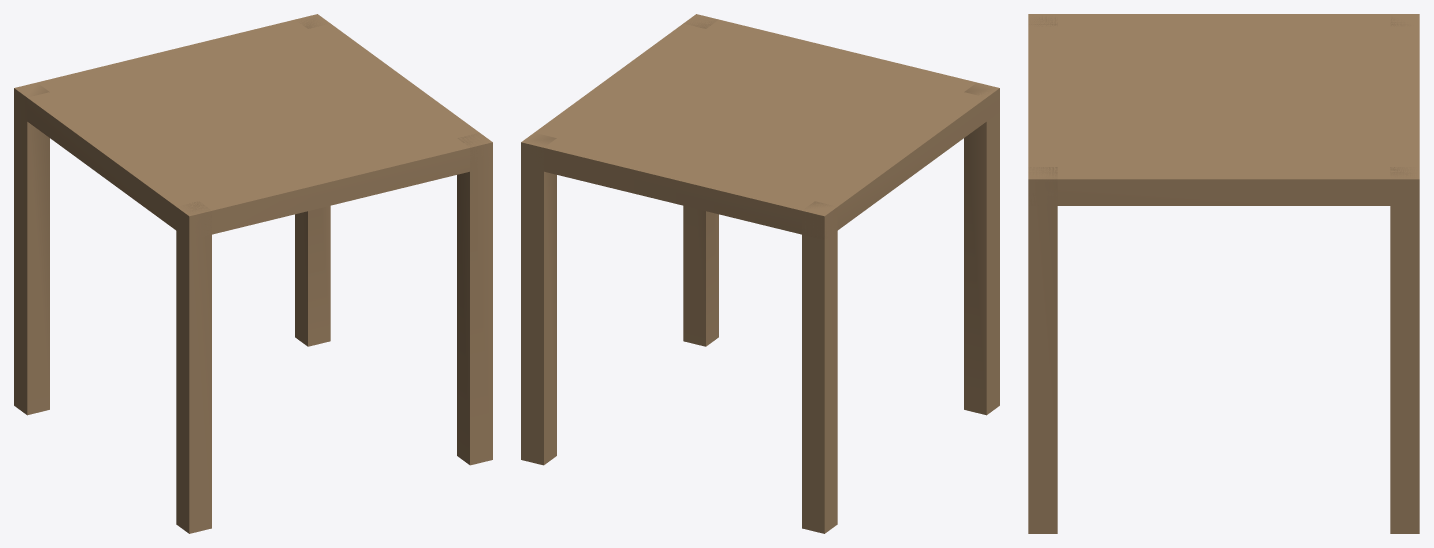
Rendered from Kit_tower_segment.fbx.
3 views of the same model, side by side, from view 1: azimuth 30°, elevation 25°; view 2: azimuth 150°, elevation 25°; view 3: azimuth 270°, elevation 25° (orthographic). The views are drawn at different scales.
Visible parts, largest first — view 1: Kit_tower_segment; view 2: Kit_tower_segment; view 3: Kit_tower_segment.
Part boxes in pixels (left/top/right/bottom): Kit_tower_segment: left=14, top=14, right=492, bottom=533; Kit_tower_segment: left=521, top=14, right=999, bottom=533; Kit_tower_segment: left=1028, top=14, right=1419, bottom=533.
Bounding box in the file's own units: 2 × 2 × 2.
